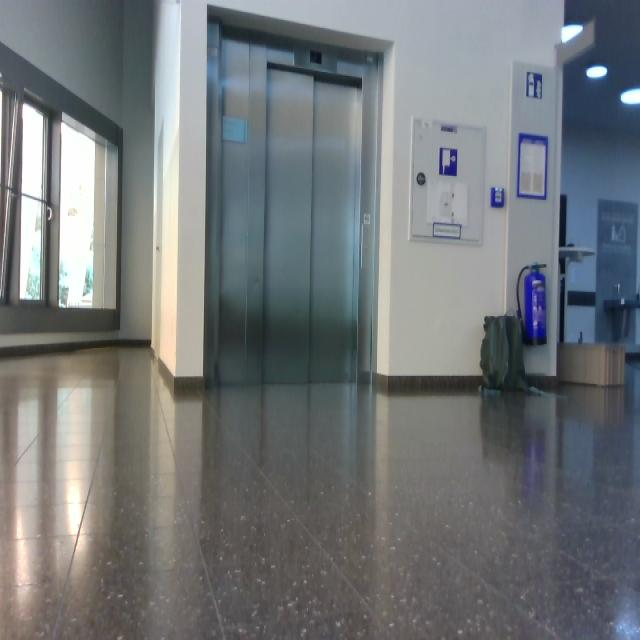backpack: (152, 2, 565, 378), (481, 316, 529, 392)
door: (207, 17, 382, 384)
fire extinguisher: (517, 265, 547, 345)
light bulb: (562, 25, 586, 45), (621, 88, 640, 106), (587, 65, 608, 78), (587, 65, 608, 77)
tiled floor: (1, 349, 640, 640)
window: (1, 89, 121, 334)
